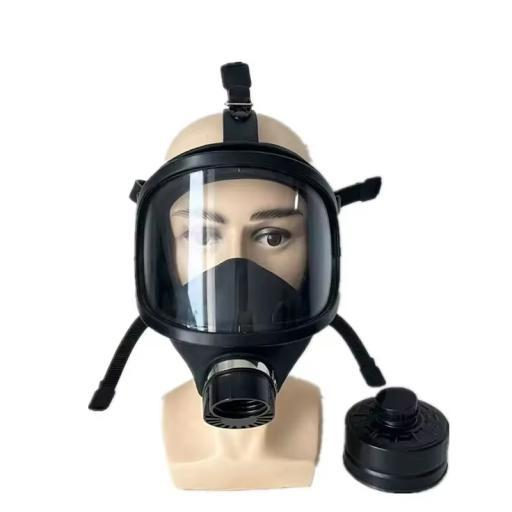mask: (76, 136, 412, 430)
